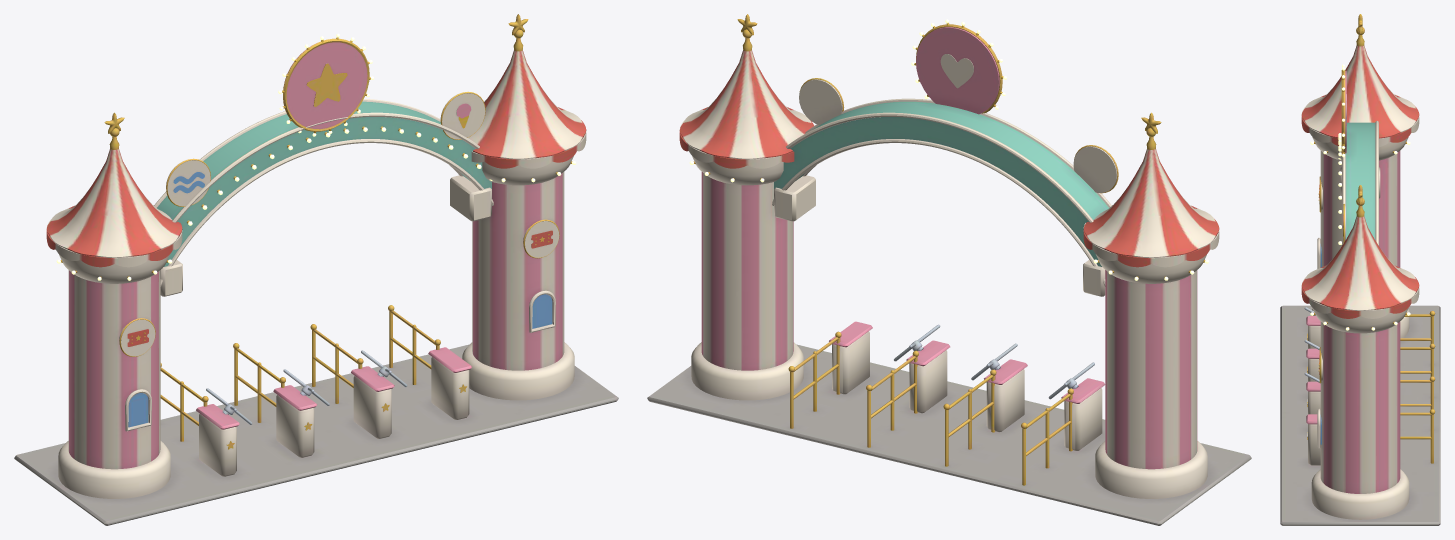
The model's file is theme-park-entrance.glb.
3 views of the same model, side by side, from view 1: azimuth 30°, elevation 25°; view 2: azimuth 150°, elevation 25°; view 3: azimuth 270°, elevation 25° (orthographic). The views are drawn at different scales.
Visible parts, largest first — view 1: theme-park-entrance_body, theme-park-entrance_bulbs; view 2: theme-park-entrance_body; view 3: theme-park-entrance_body, theme-park-entrance_bulbs.
Boxes of the visible parts, x1,y1,x2,y2 form: theme-park-entrance_body: (14, 14, 618, 525); theme-park-entrance_bulbs: (56, 33, 576, 280); theme-park-entrance_body: (647, 14, 1251, 525); theme-park-entrance_body: (1280, 14, 1440, 525); theme-park-entrance_bulbs: (1310, 64, 1410, 330).
Size of the model in its own units: 9.43 by 6.95 by 2.9.
2 materials, 1 textured.
